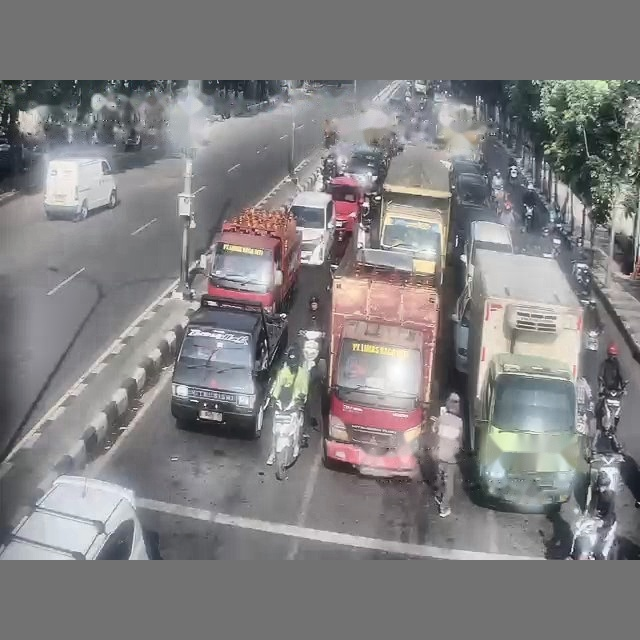Mobil: (171, 295, 287, 438), (0, 475, 151, 559), (451, 173, 489, 207)
Motor: (569, 452, 623, 559), (273, 399, 303, 479), (569, 512, 605, 559), (597, 382, 626, 434), (298, 329, 326, 379), (522, 205, 533, 232)
Truk: (452, 250, 586, 509), (322, 247, 439, 477), (207, 208, 302, 313)
